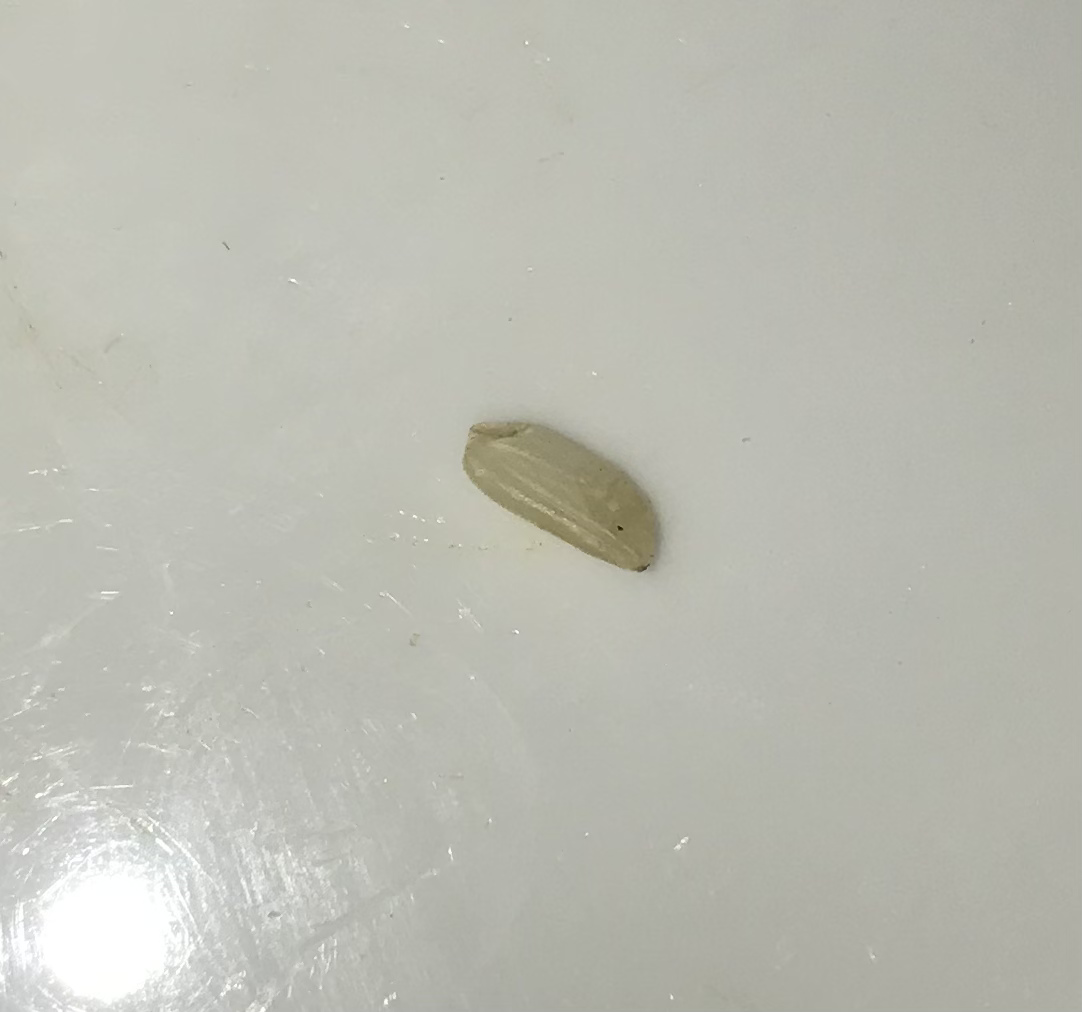Gao Lut Trang: (456, 399, 679, 596)
